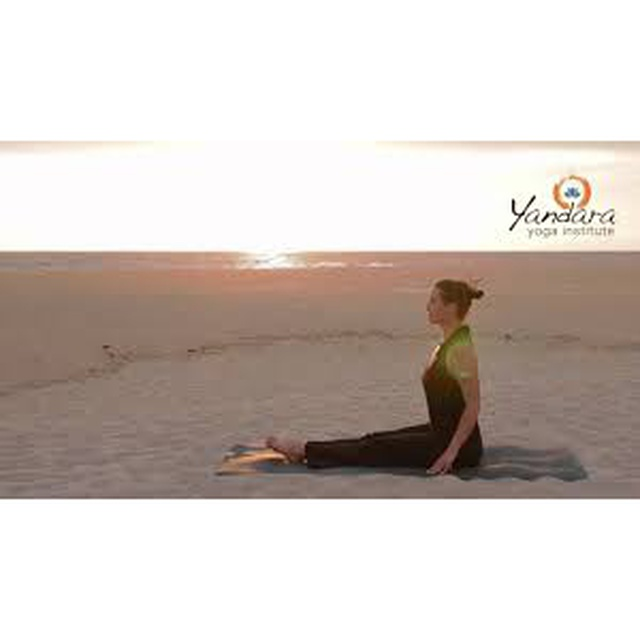Staff_Pose: (267, 278, 487, 478)
